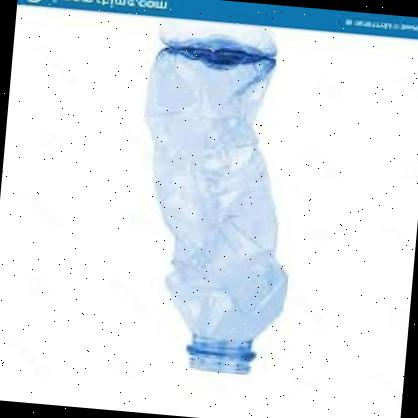bottle: (118, 36, 320, 390)
